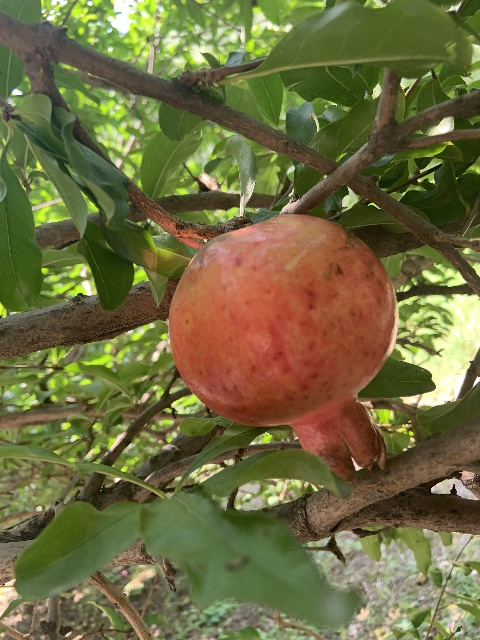ripe: (169, 215, 397, 484)
